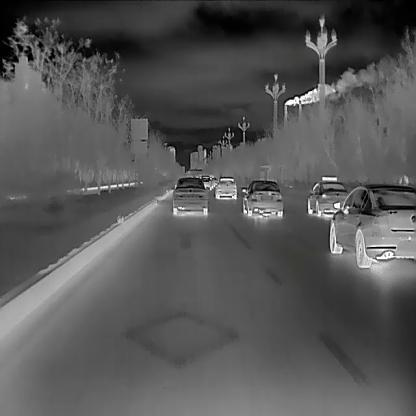car: (328, 185, 416, 267), (307, 175, 348, 216), (240, 179, 283, 217), (172, 177, 208, 215), (214, 174, 235, 200)
